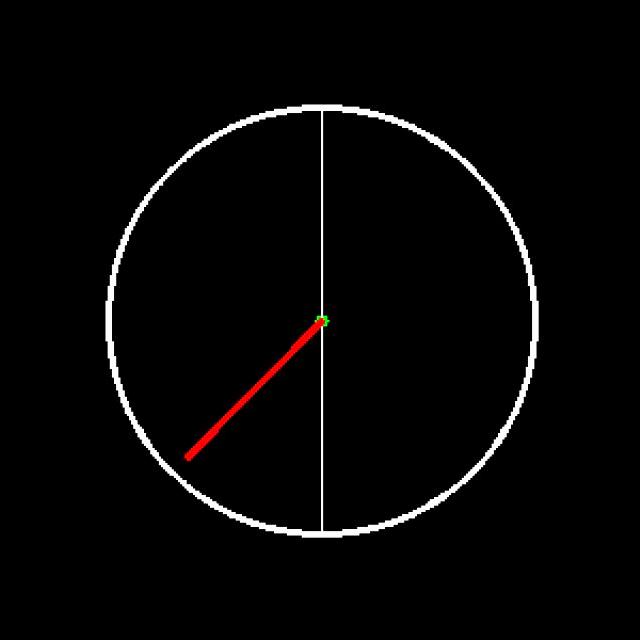Needle_Tip: (164, 436, 217, 473)
Needle_base: (297, 287, 349, 353)
